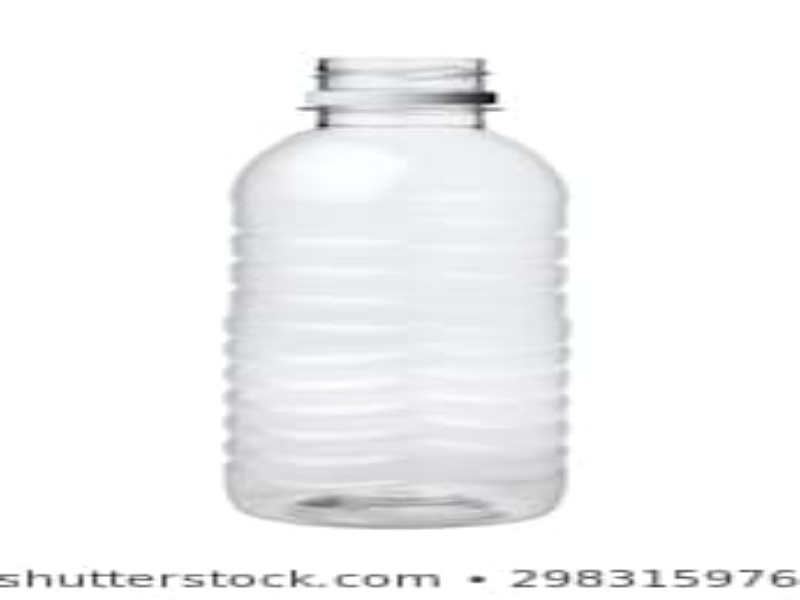plastic-bottle: (221, 52, 572, 528)
